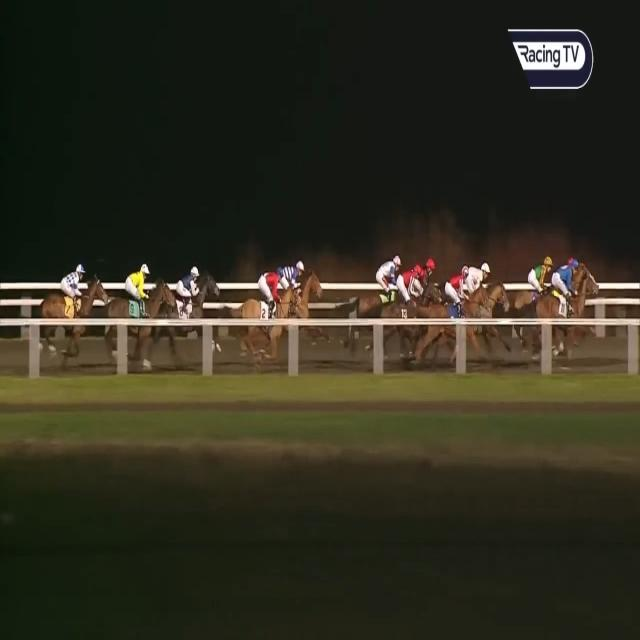horses-racing: (98, 252, 156, 353), (160, 257, 213, 358), (385, 261, 441, 339), (46, 257, 95, 346), (358, 248, 406, 336), (534, 254, 578, 344), (431, 262, 471, 354), (273, 248, 315, 331), (457, 252, 499, 330), (249, 266, 285, 355), (558, 251, 600, 321), (522, 247, 555, 323), (412, 252, 442, 309)
